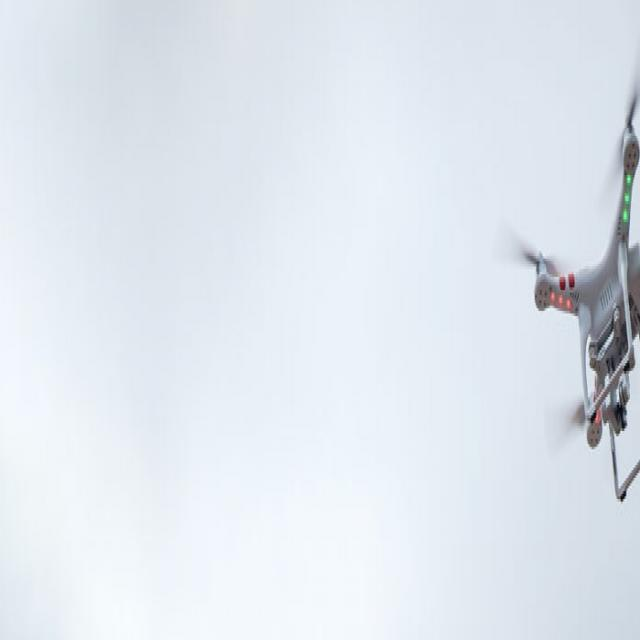drone: (491, 52, 640, 476)
